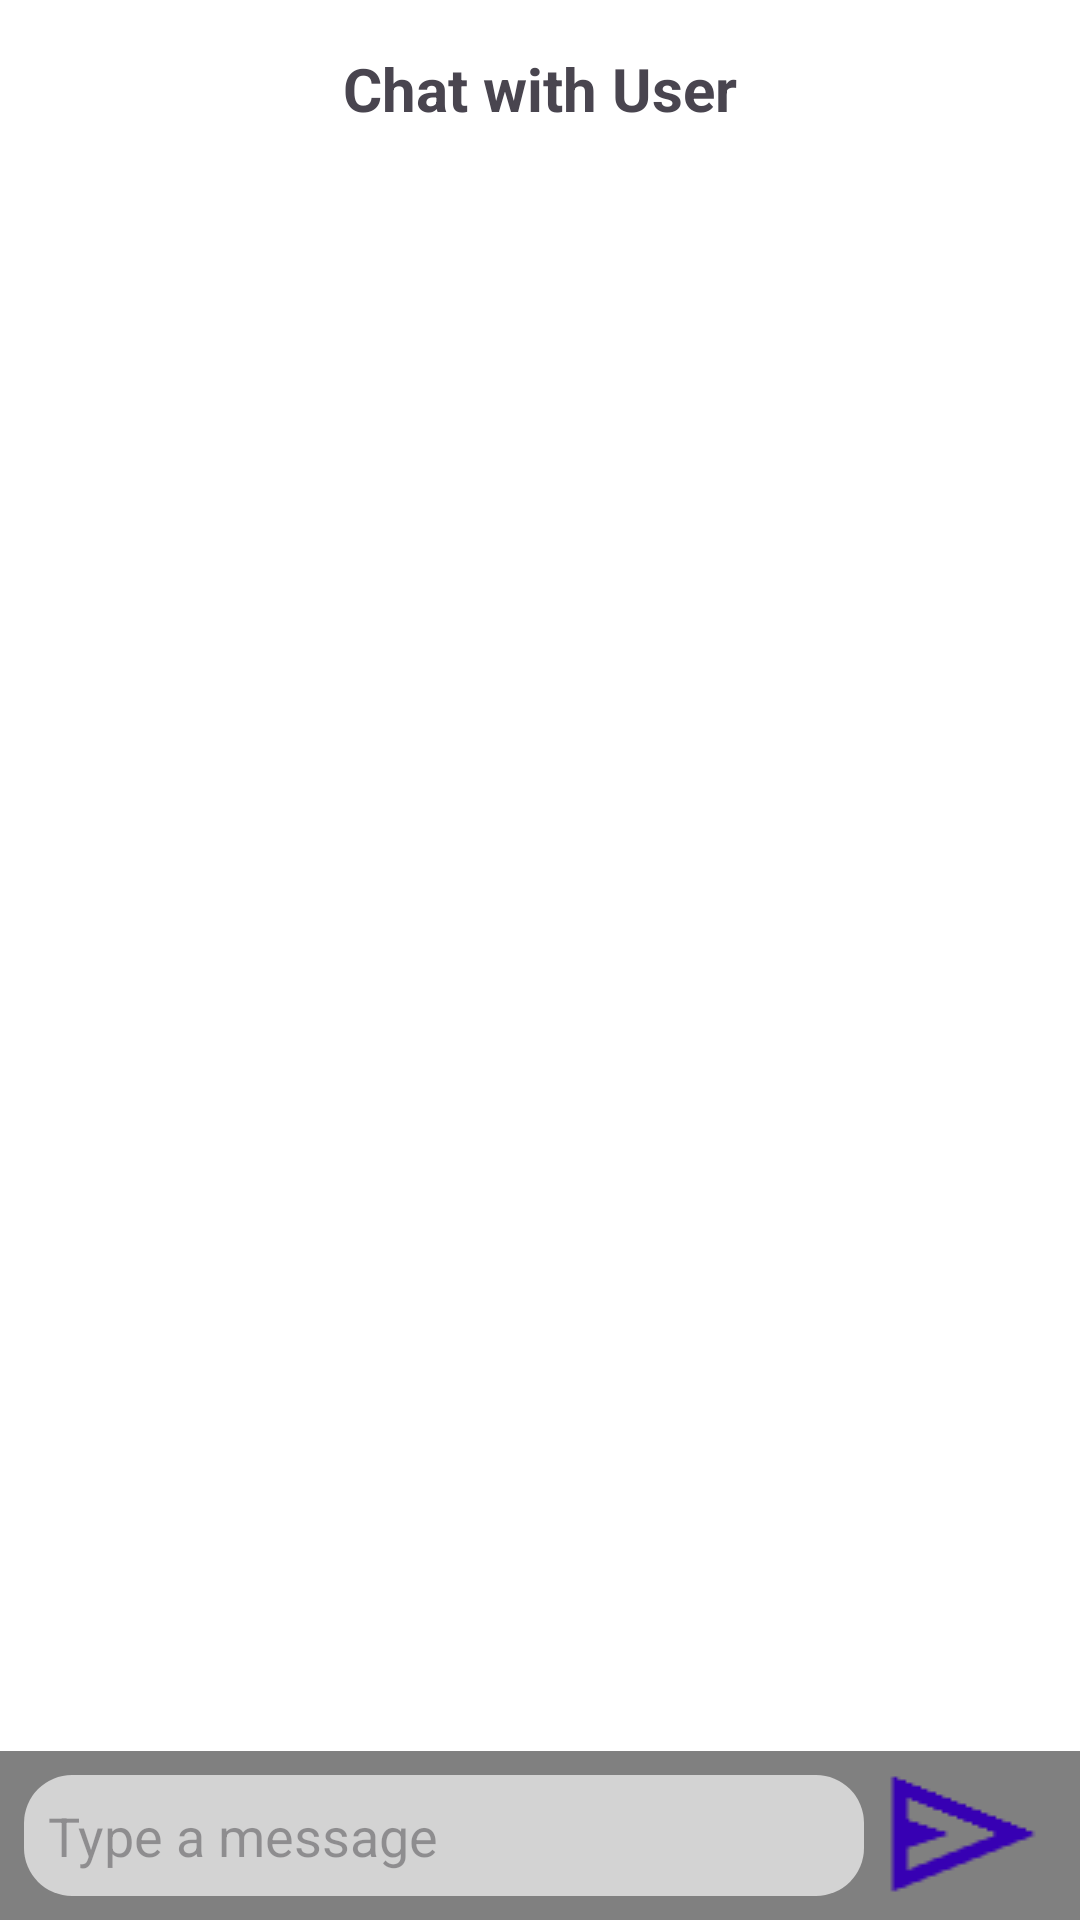

Named icons in this screenshot (1080×1920) and their centers, [x,y]:
Send: [962,1834]
